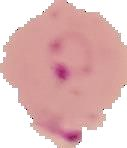parasitized: (5, 8, 121, 110), (35, 89, 104, 144), (41, 26, 97, 84)
